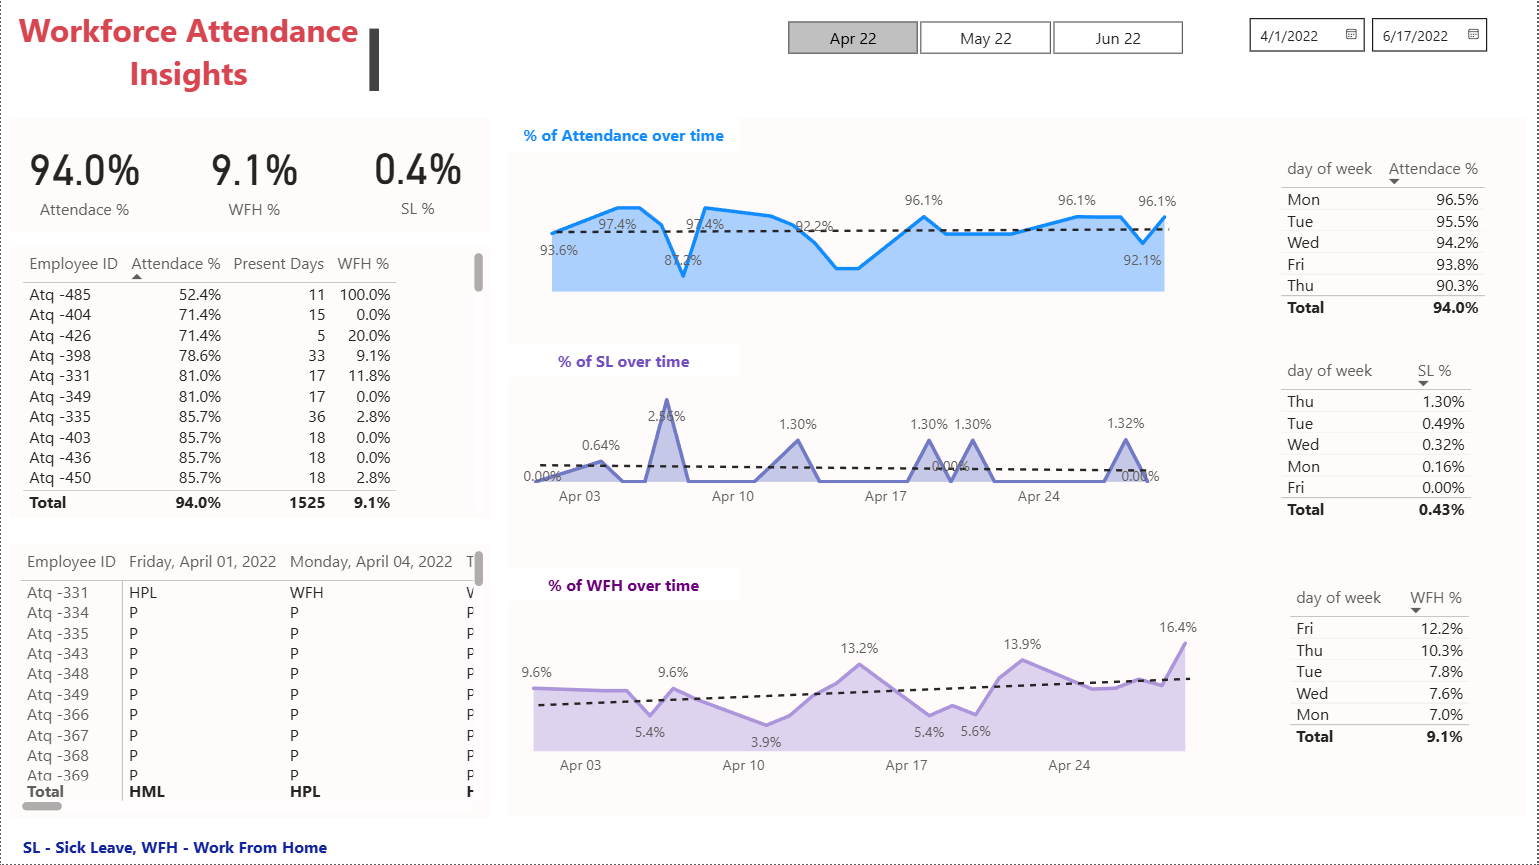

The dashboard page shown, as its layout file describes it:
{"tool":"powerbi","page":{"name":"Presence Insights","canvas":[1280,720],"ordinal":0},"visuals":[{"type":"textbox","box":[7.8,205.6,399.9,225.5],"z":0},{"type":"textbox","box":[7.8,453.3,399.8,227.6],"z":1000},{"type":"textbox","box":[422.3,97.9,848.1,582.3],"z":2000},{"type":"textbox","box":[7.8,98,399.9,95.4],"z":3000},{"type":"tableEx","fields":{"Values":["Final Data.Employee ID","Measures (2).Attendace %","Measures (2).Present Days","Measures (2).WFH %"]},"box":[12.6,205.2,394.9,225.7],"z":4000},{"type":"slicer","fields":{"Values":["Final Data.Date"]},"box":[1027.3,5.2,252.7,46.3],"z":5000},{"type":"slicer","fields":{"Values":["Final Data.MMM YY"]},"box":[630.4,10.5,379.5,35.8],"z":6000},{"type":"areaChart","fields":{"Category":["Final Data.MMM YY","Final Data.Date"],"Y":["Measures (2).WFH %"]},"box":[420.7,502.3,589,153.5],"z":7000},{"type":"areaChart","fields":{"Category":["Final Data.WeekNo","Final Data.Date"],"Y":["Measures (2).Attendace %"]},"box":[444.1,144.9,540.4,103.2],"z":8000},{"type":"card","fields":{"Values":["Measures (2).Attendace %"]},"box":[7.8,98,124,96.3],"z":9000},{"type":"card","fields":{"Values":["Measures (2).WFH %"]},"box":[141.4,98,138.8,96.3],"z":10000},{"type":"areaChart","fields":{"Category":["Final Data.MMM YY","Final Data.Date"],"Y":["Measures (2).SL %"]},"box":[422.5,307.1,556,124],"z":11000},{"type":"card","fields":{"Values":["Measures (2).SL %"]},"box":[286.3,97.2,121.4,96.3],"z":13000},{"type":"textbox","box":[0,10.8,320.3,70.9],"z":14000},{"type":"textbox","box":[422.4,98.2,192.5,27.5],"z":15000},{"type":"textbox","box":[422.5,286.3,192.6,26.9],"z":16000},{"type":"textbox","box":[422.1,473.7,192.6,27.2],"z":17000},{"type":"pivotTable","fields":{"Rows":["Final Data.Employee ID"],"Columns":["Final Data.Date"],"Values":["Min(Final Data.Value)"]},"box":[11.7,453.3,395.9,227.6],"z":18000},{"type":"textbox","box":[13.6,691.6,289.8,28.2],"z":19000},{"type":"tableEx","fields":{"Values":["Final Data.day of week","Measures (2).Attendace %"]},"box":[1060.9,125.8,209.9,145.7],"z":20000},{"type":"tableEx","fields":{"Values":["Final Data.day of week","Measures (2).SL %"]},"box":[1060.9,294.1,191.7,167.4],"z":21000},{"type":"tableEx","fields":{"Values":["Final Data.day of week","Measures (2).WFH %"]},"box":[1068.7,483.2,170,167.4],"z":22000}]}

Visuals, with their boxes in screenshot pixels (x1, y1, x2, y2), scaled from the page's 1280x720 canvas onto the 1539x865 screenshot:
textbox: <region>9, 247, 490, 518</region>
textbox: <region>9, 545, 490, 818</region>
textbox: <region>508, 118, 1527, 817</region>
textbox: <region>9, 118, 490, 232</region>
tableEx - Final Data.Employee ID x Measures (2).Attendace %: <region>15, 247, 490, 518</region>
slicer - Final Data.Date: <region>1235, 6, 1538, 62</region>
slicer - Final Data.MMM YY: <region>758, 13, 1214, 56</region>
areaChart - Final Data.MMM YY x Final Data.Date: <region>506, 603, 1214, 788</region>
areaChart - Final Data.WeekNo x Final Data.Date: <region>534, 174, 1184, 298</region>
card - Measures (2).Attendace %: <region>9, 118, 158, 233</region>
card - Measures (2).WFH %: <region>170, 118, 337, 233</region>
areaChart - Final Data.MMM YY x Final Data.Date: <region>508, 369, 1176, 518</region>
card - Measures (2).SL %: <region>344, 117, 490, 232</region>
textbox: <region>0, 13, 385, 98</region>
textbox: <region>508, 118, 739, 151</region>
textbox: <region>508, 344, 740, 376</region>
textbox: <region>508, 569, 739, 602</region>
pivotTable - Final Data.Employee ID x Final Data.Date: <region>14, 545, 490, 818</region>
textbox: <region>16, 831, 365, 864</region>
tableEx - Final Data.day of week x Measures (2).Attendace %: <region>1276, 151, 1528, 326</region>
tableEx - Final Data.day of week x Measures (2).SL %: <region>1276, 353, 1506, 554</region>
tableEx - Final Data.day of week x Measures (2).WFH %: <region>1285, 581, 1489, 782</region>
